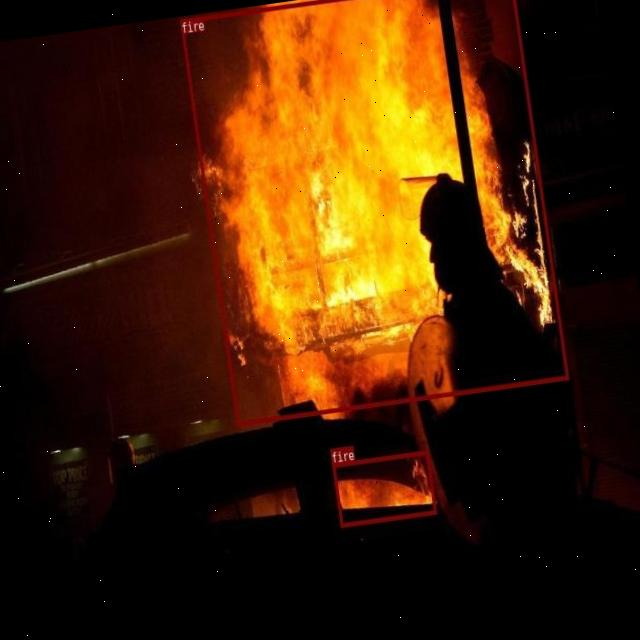fire: (179, 0, 568, 426), (332, 450, 436, 526)
